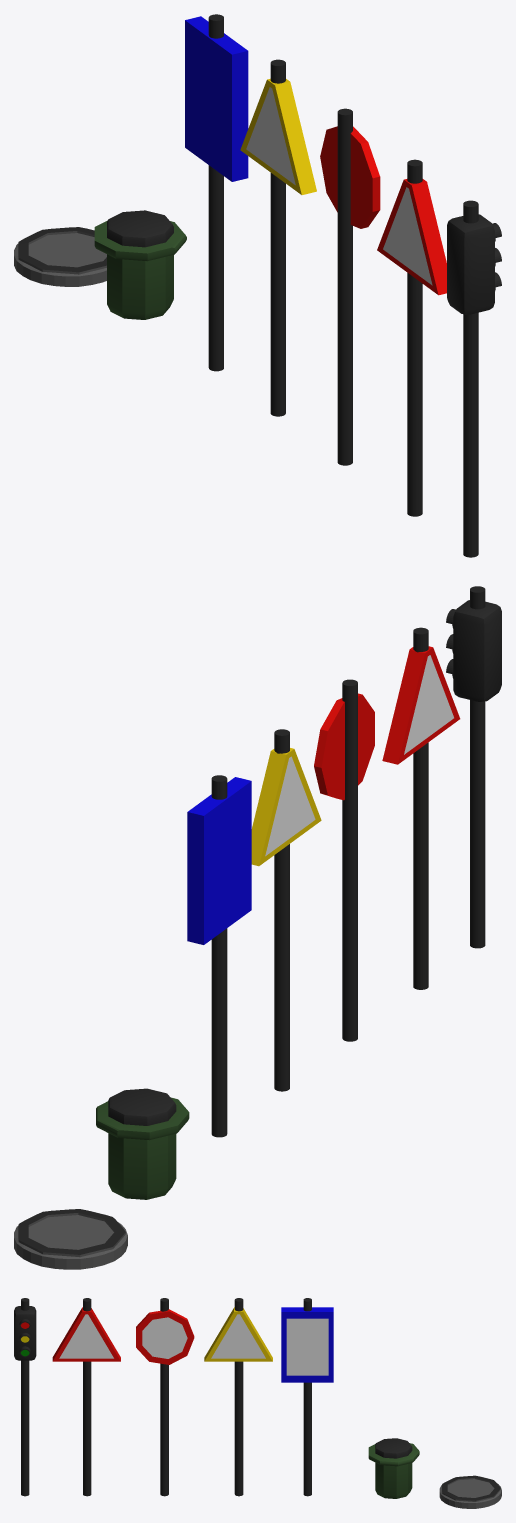
File: ulica props 1.fbx
3 views of the same model, one above another, from view 1: azimuth 30°, elevation 25°; view 2: azimuth 150°, elevation 25°; view 3: azimuth 270°, elevation 25° (orthographic). The views are drawn at different scales.
Parts seen in each view (by area): view 1: Cube.003, Cylinder.002, Cylinder.005, Cube.002, Cube.001, Cylinder.003, Cube, Cylinder, Cylinder.007, Cylinder.004, Cylinder.008, Cylinder.006; view 2: Cube.003, Cylinder.002, Cylinder.003, Cylinder.005, Cube.001, Cube.002, Cube, Cylinder, Cylinder.004, Cylinder.007, Cylinder.008, Cylinder.006; view 3: Cube.003, Cylinder.006, Cylinder.002, Cube.001, Cube.002, Cylinder.003, Cylinder.007, Cylinder, Cylinder.004, Cylinder.005, Cylinder.008, Cube (+1 smaller).
Boxes of the visible parts, x1,y1,x2,y2 form: Cube.003: (185, 16, 248, 181); Cylinder.002: (94, 210, 186, 319); Cylinder.005: (337, 108, 352, 465); Cube.002: (240, 78, 316, 194); Cube.001: (377, 179, 446, 295); Cylinder.003: (14, 227, 106, 286); Cube: (447, 214, 494, 314); Cylinder: (463, 200, 478, 557); Cylinder.007: (270, 59, 285, 416); Cylinder.004: (407, 159, 422, 516); Cylinder.008: (208, 14, 223, 371); Cylinder.006: (320, 126, 380, 228); Cube.003: (187, 777, 251, 944); Cylinder.002: (96, 1088, 189, 1199); Cylinder.003: (14, 1209, 127, 1269); Cylinder.005: (342, 679, 357, 1041); Cube.001: (382, 646, 460, 764); Cube.002: (251, 748, 321, 866); Cube: (453, 600, 501, 701); Cylinder: (470, 586, 485, 948); Cylinder.004: (413, 627, 428, 989); Cylinder.007: (274, 729, 289, 1091); Cylinder.008: (211, 775, 227, 1137); Cylinder.006: (314, 693, 374, 800); Cube.003: (281, 1307, 333, 1382); Cylinder.006: (136, 1309, 194, 1364); Cylinder.002: (368, 1438, 419, 1498); Cube.001: (52, 1307, 120, 1361); Cube.002: (204, 1307, 272, 1361); Cylinder.003: (439, 1475, 501, 1508); Cylinder.007: (234, 1298, 243, 1496); Cylinder: (21, 1298, 29, 1496); Cylinder.004: (83, 1298, 91, 1496); Cylinder.005: (160, 1298, 168, 1496); Cylinder.008: (303, 1298, 311, 1496); Cube: (14, 1306, 36, 1360).
Bounding box in the file's own units: 159 × 557 × 1250.
